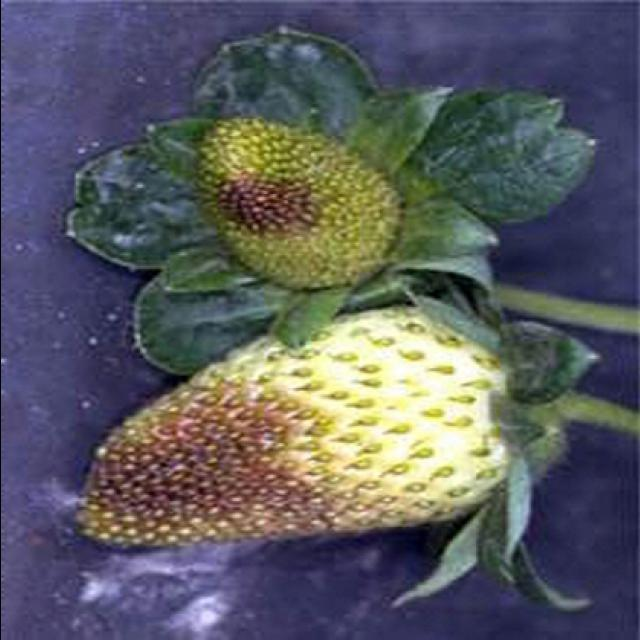Anthracnose Fruit Rot: (80, 380, 405, 547), (203, 161, 332, 237)
